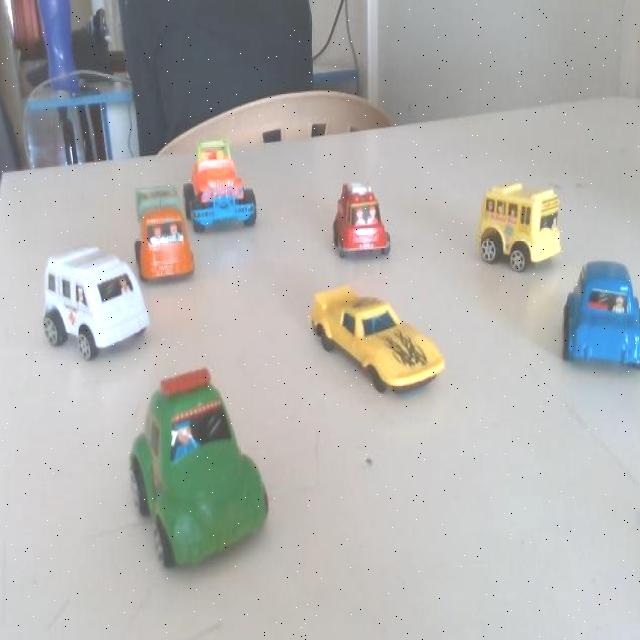car: (116, 376, 260, 550), (304, 273, 446, 405), (35, 233, 149, 372), (557, 254, 640, 384), (469, 180, 555, 280), (127, 173, 195, 290), (188, 131, 266, 231), (320, 171, 390, 272)
